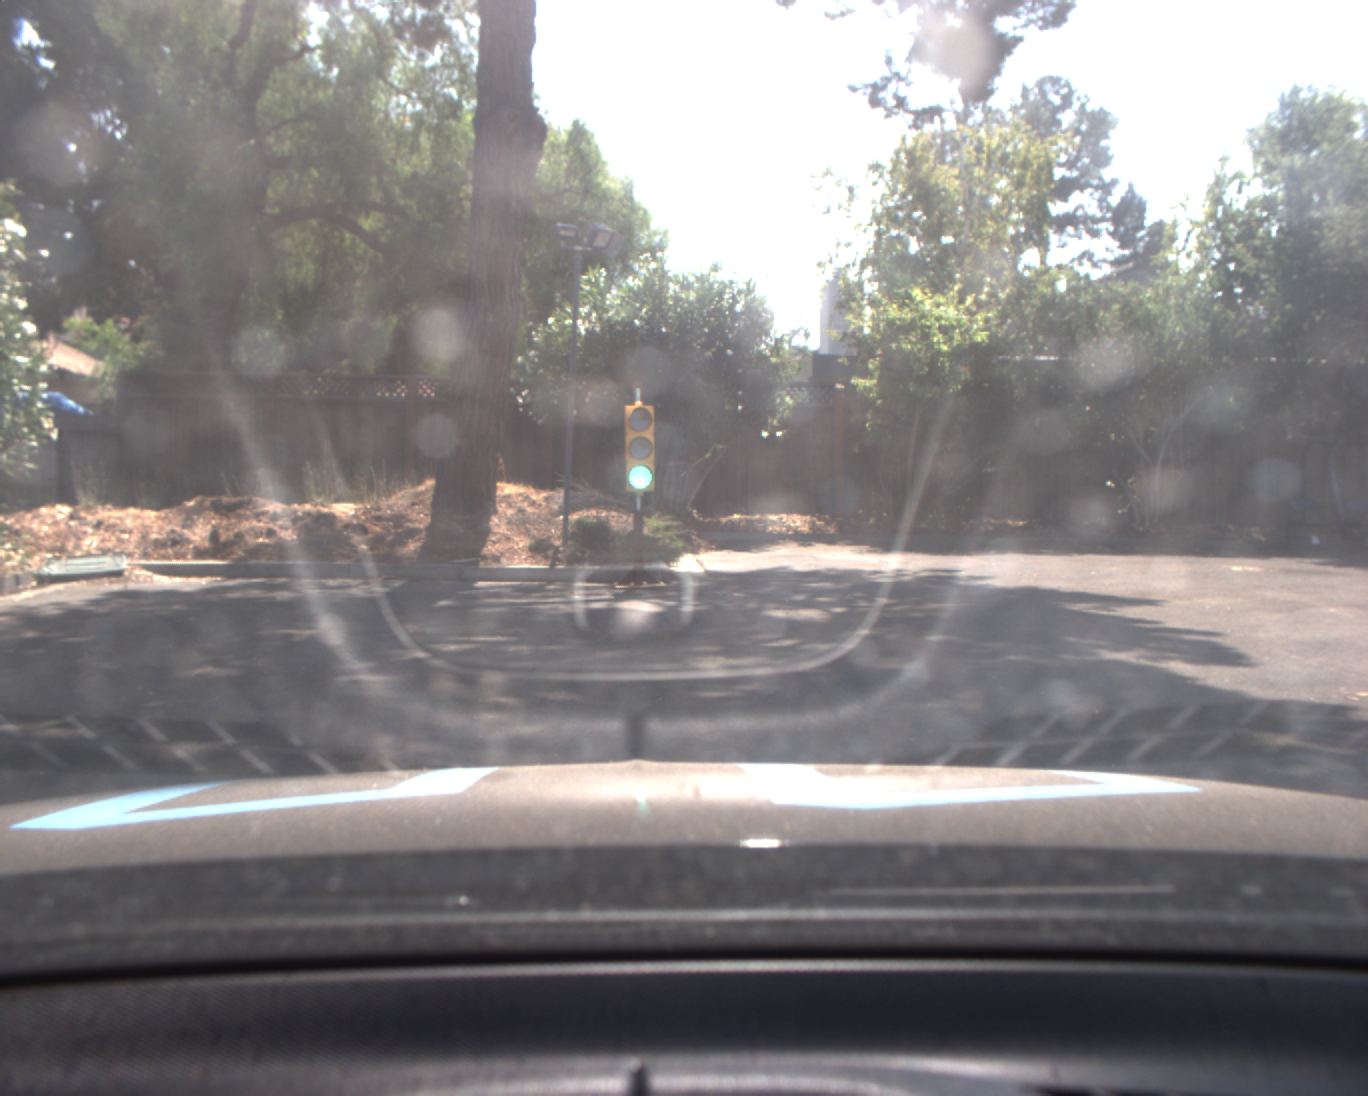green: (622, 401, 660, 495)
